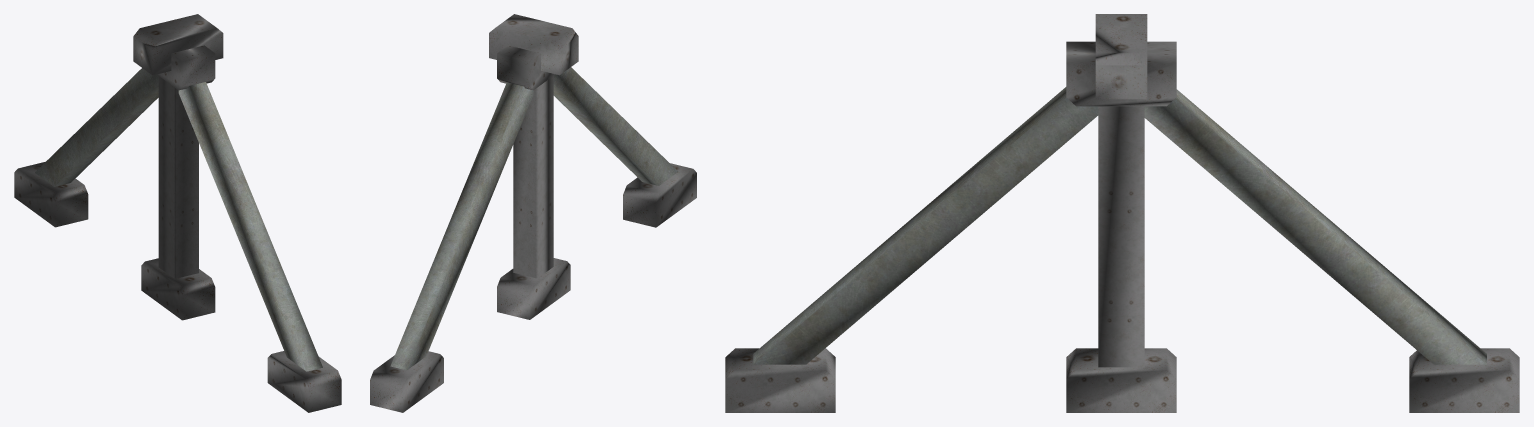
File: Ob_BridgeSupport_RC.fbx
3 renders of one model, left to right at view 1: azimuth 30°, elevation 25°; view 2: azimuth 150°, elevation 25°; view 3: azimuth 270°, elevation 25°, orthographic. The views are drawn at different scales.
Parts seen in each view (by area): view 1: OB_BridgeSupport_RC; view 2: OB_BridgeSupport_RC; view 3: OB_BridgeSupport_RC.
Boxes of the visible parts, x1,y1,x2,y2 form: OB_BridgeSupport_RC: (14, 14, 341, 412); OB_BridgeSupport_RC: (370, 14, 696, 412); OB_BridgeSupport_RC: (725, 14, 1519, 412).
Bounding box in the file's own units: 194 × 715 × 1395.
